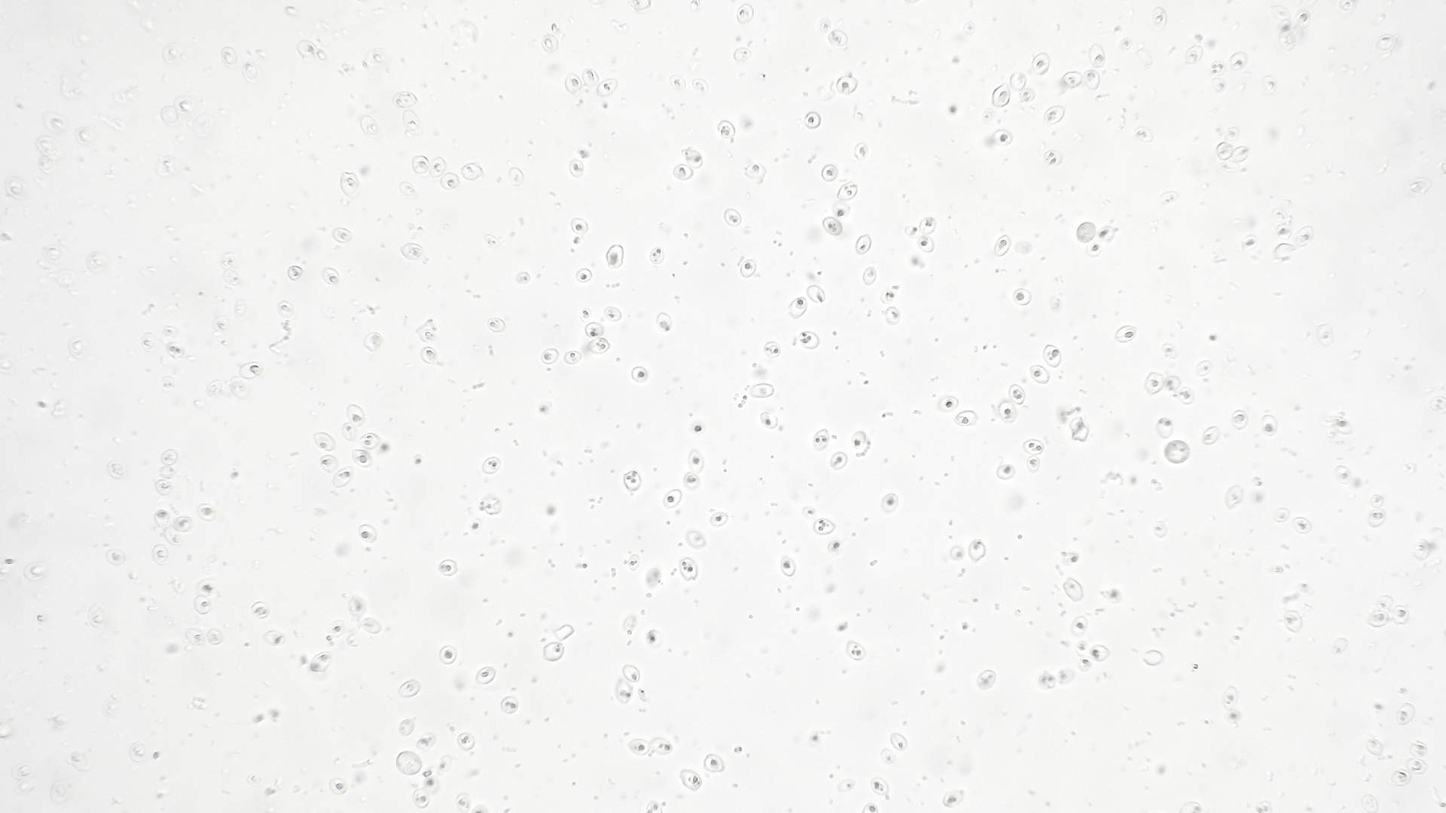yeasy: (1057, 577, 1087, 605), (1147, 5, 1173, 36), (236, 357, 267, 382), (1143, 369, 1167, 399), (650, 735, 676, 762), (329, 465, 355, 491), (1280, 608, 1306, 634), (1040, 343, 1065, 370), (618, 468, 643, 495), (676, 766, 701, 793), (878, 490, 902, 518), (541, 640, 567, 665), (992, 81, 1014, 110), (685, 445, 706, 475), (1027, 362, 1054, 385), (392, 88, 420, 110), (1088, 41, 1109, 70), (1006, 383, 1030, 408), (1039, 147, 1064, 171), (398, 241, 428, 261), (810, 427, 831, 455), (1011, 285, 1035, 309), (843, 638, 867, 662), (715, 118, 739, 142), (344, 403, 367, 428), (310, 431, 336, 453), (618, 662, 644, 684), (395, 677, 421, 699), (1069, 615, 1091, 641), (194, 501, 221, 522), (358, 113, 379, 140), (967, 537, 988, 564), (1030, 50, 1051, 77), (605, 242, 625, 270), (191, 595, 215, 618), (668, 162, 697, 181), (1396, 702, 1418, 727), (996, 399, 1017, 425), (953, 409, 979, 430), (261, 628, 287, 649), (584, 337, 614, 355), (461, 162, 488, 182), (594, 78, 621, 98), (1154, 414, 1173, 442), (702, 752, 725, 775), (355, 521, 377, 545), (414, 732, 438, 754), (974, 669, 998, 691), (1042, 105, 1066, 127), (1081, 69, 1103, 93), (991, 235, 1012, 260), (348, 449, 373, 470), (1228, 50, 1249, 75), (1113, 324, 1139, 344), (993, 464, 1019, 484), (1020, 437, 1046, 457), (777, 554, 797, 580), (151, 542, 171, 568), (626, 738, 653, 757), (506, 166, 525, 193), (757, 410, 780, 432), (991, 126, 1014, 148), (410, 787, 432, 810), (310, 651, 332, 674), (735, 3, 757, 26), (786, 297, 807, 321), (748, 382, 776, 400), (722, 206, 743, 230), (1182, 44, 1206, 65), (819, 217, 844, 237), (677, 557, 697, 582), (685, 531, 710, 551), (889, 729, 908, 755), (825, 28, 851, 47), (1230, 407, 1248, 434), (285, 264, 307, 286), (437, 644, 459, 666), (474, 665, 496, 687), (455, 729, 477, 751), (813, 516, 836, 537), (797, 330, 820, 351), (805, 284, 828, 305), (660, 489, 683, 510), (316, 453, 337, 476), (539, 32, 560, 55), (644, 628, 665, 651), (869, 775, 890, 798), (835, 75, 858, 96), (1333, 464, 1354, 487), (801, 110, 825, 130), (484, 316, 508, 336), (567, 157, 587, 181), (1260, 413, 1279, 438), (1403, 757, 1429, 775), (834, 181, 856, 202), (682, 148, 704, 169), (319, 266, 341, 287), (498, 696, 520, 717), (480, 456, 502, 477), (328, 776, 350, 797), (940, 787, 961, 809), (917, 214, 937, 237), (647, 245, 667, 268), (1089, 642, 1112, 662), (854, 233, 873, 257), (1292, 516, 1313, 537), (629, 365, 651, 385), (568, 216, 590, 236), (681, 472, 703, 492), (852, 141, 871, 164), (1389, 769, 1412, 788), (330, 227, 354, 245), (655, 311, 674, 333), (584, 321, 606, 340), (410, 154, 429, 176), (104, 547, 126, 566), (1059, 69, 1081, 88), (1367, 509, 1389, 528), (438, 173, 461, 191), (436, 559, 459, 577), (737, 258, 757, 278), (250, 601, 270, 621), (1194, 358, 1213, 379), (859, 266, 878, 287), (580, 67, 599, 88), (883, 306, 901, 328), (820, 162, 838, 184), (707, 511, 729, 529), (358, 432, 381, 449), (430, 155, 445, 181), (828, 452, 847, 472), (573, 266, 593, 285), (418, 346, 438, 365), (563, 348, 584, 366), (563, 75, 581, 96), (1007, 70, 1025, 91), (917, 235, 936, 254), (154, 479, 173, 498), (850, 430, 868, 450), (1162, 374, 1180, 394), (1178, 386, 1196, 406), (902, 222, 920, 242), (667, 73, 687, 91), (206, 627, 224, 647), (1273, 221, 1291, 241), (831, 203, 852, 220), (423, 774, 439, 796), (763, 340, 782, 358), (514, 269, 532, 288), (166, 341, 185, 359), (1025, 455, 1042, 475), (539, 348, 560, 364), (328, 617, 344, 638), (602, 306, 624, 321), (1240, 234, 1258, 252), (1084, 241, 1103, 258), (1018, 86, 1037, 103), (937, 395, 957, 411), (946, 547, 965, 562), (628, 552, 639, 572), (578, 308, 591, 321)
